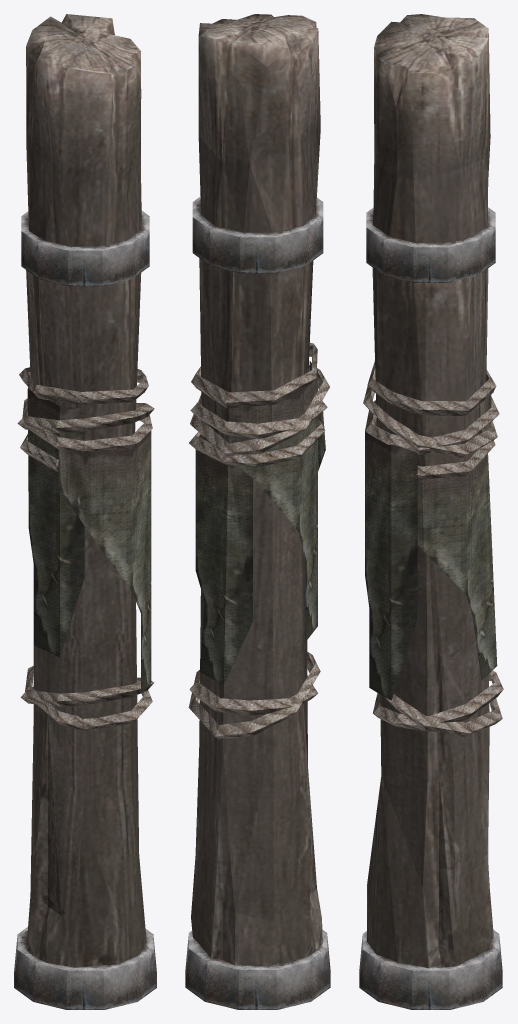
File: bg_anh_mirrorv_sh03_3_sm_old.FBX
3 views of the same model, side by side, from view 1: azimuth 30°, elevation 25°; view 2: azimuth 150°, elevation 25°; view 3: azimuth 270°, elevation 25° (orthographic).
Parts seen in each view (by area): view 1: bg_anh_mirrorv_sh03_3_sm_old; view 2: bg_anh_mirrorv_sh03_3_sm_old; view 3: bg_anh_mirrorv_sh03_3_sm_old.
Part boxes in pixels (bbox=[...]): bg_anh_mirrorv_sh03_3_sm_old: bbox=[14, 14, 156, 1009]; bg_anh_mirrorv_sh03_3_sm_old: bbox=[185, 14, 330, 1009]; bg_anh_mirrorv_sh03_3_sm_old: bbox=[359, 14, 503, 1009].
Size of the model in its own units: 82.94 by 598 by 82.42.
